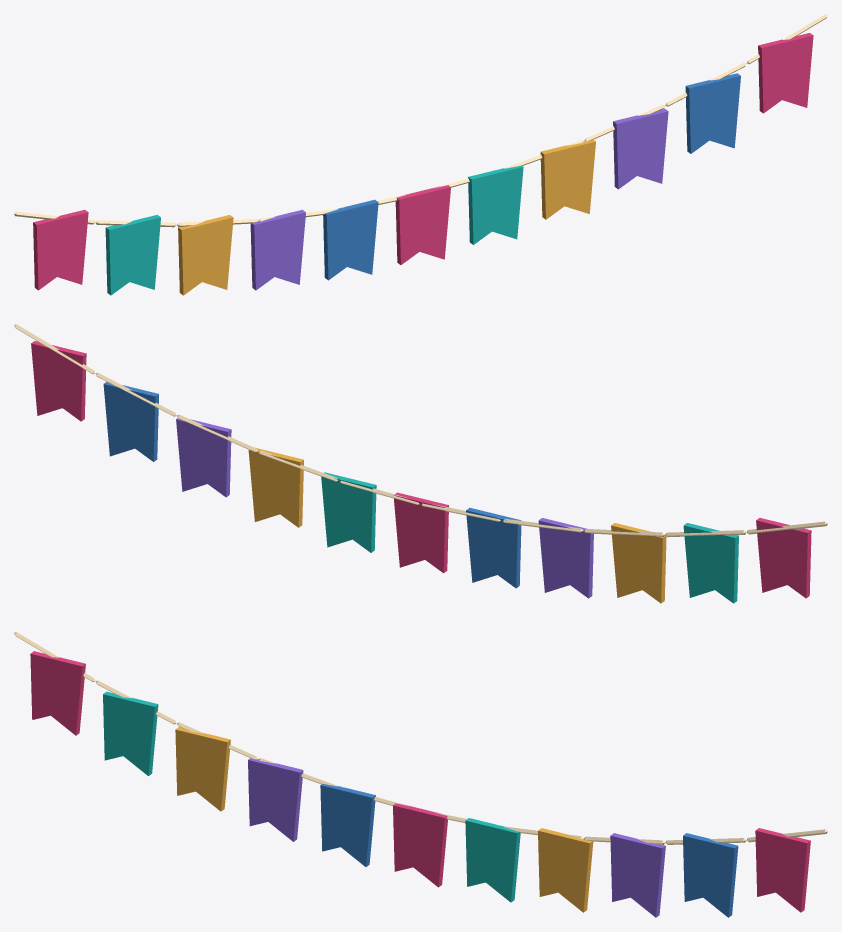
The model's file is bunting.glb.
3 views of the same model, one above another, from view 1: azimuth 30°, elevation 25°; view 2: azimuth 150°, elevation 25°; view 3: azimuth 330°, elevation 25° (orthographic).
Visible parts, largest first — view 1: Bandeirinha, Bandeirinha.004, Bandeirinha.010, Bandeirinha.005, Bandeirinha.002, Bandeirinha.006, Bandeirinha.001, Bandeirinha.008, Bandeirinha.009, Bandeirinha.003, Bandeirinha.007; view 2: Bandeirinha, Bandeirinha.005, Bandeirinha.010, Bandeirinha.006, Bandeirinha.001, Bandeirinha.004, Bandeirinha.003, Bandeirinha.009, Bandeirinha.007, Bandeirinha.002, Bandeirinha.008; view 3: Bandeirinha.005, Bandeirinha.010, Bandeirinha.009, Bandeirinha, Bandeirinha.004, Bandeirinha.001, Bandeirinha.006, Bandeirinha.003, Bandeirinha.008, Bandeirinha.007, Bandeirinha.002.
Part boxes in pixels (box(x1,y1,x2,y2)): Bandeirinha: box(33, 209, 88, 290); Bandeirinha.004: box(323, 199, 378, 280); Bandeirinha.010: box(758, 33, 813, 113); Bandeirinha.005: box(395, 185, 450, 264); Bandeirinha.002: box(178, 215, 233, 295); Bandeirinha.006: box(468, 165, 523, 244); Bandeirinha.001: box(105, 214, 160, 295); Bandeirinha.008: box(613, 108, 668, 189); Bandeirinha.009: box(685, 73, 740, 153); Bandeirinha.003: box(250, 209, 305, 290); Bandeirinha.007: box(540, 139, 595, 219); Bandeirinha: box(756, 518, 811, 598); Bandeirinha.005: box(393, 492, 448, 573); Bandeirinha.010: box(31, 341, 86, 421); Bandeirinha.006: box(321, 472, 376, 552); Bandeirinha.001: box(683, 523, 738, 603); Bandeirinha.004: box(466, 507, 521, 588); Bandeirinha.003: box(538, 518, 593, 598); Bandeirinha.009: box(103, 382, 158, 461); Bandeirinha.007: box(248, 447, 303, 527); Bandeirinha.002: box(611, 523, 666, 603); Bandeirinha.008: box(176, 418, 231, 497); Bandeirinha.005: box(393, 803, 447, 887); Bandeirinha.010: box(755, 828, 810, 912); Bandeirinha.009: box(683, 833, 738, 917); Bandeirinha: box(30, 651, 85, 735); Bandeirinha.004: box(320, 784, 375, 866); Bandeirinha.001: box(103, 691, 158, 775); Bandeirinha.006: box(465, 818, 520, 902); Bandeirinha.003: box(248, 758, 303, 841); Bandeirinha.008: box(610, 833, 665, 917); Bandeirinha.007: box(538, 828, 593, 912); Bandeirinha.002: box(175, 727, 230, 811).
Size of the model in its own units: 3.2 by 0.5619 by 0.03.
